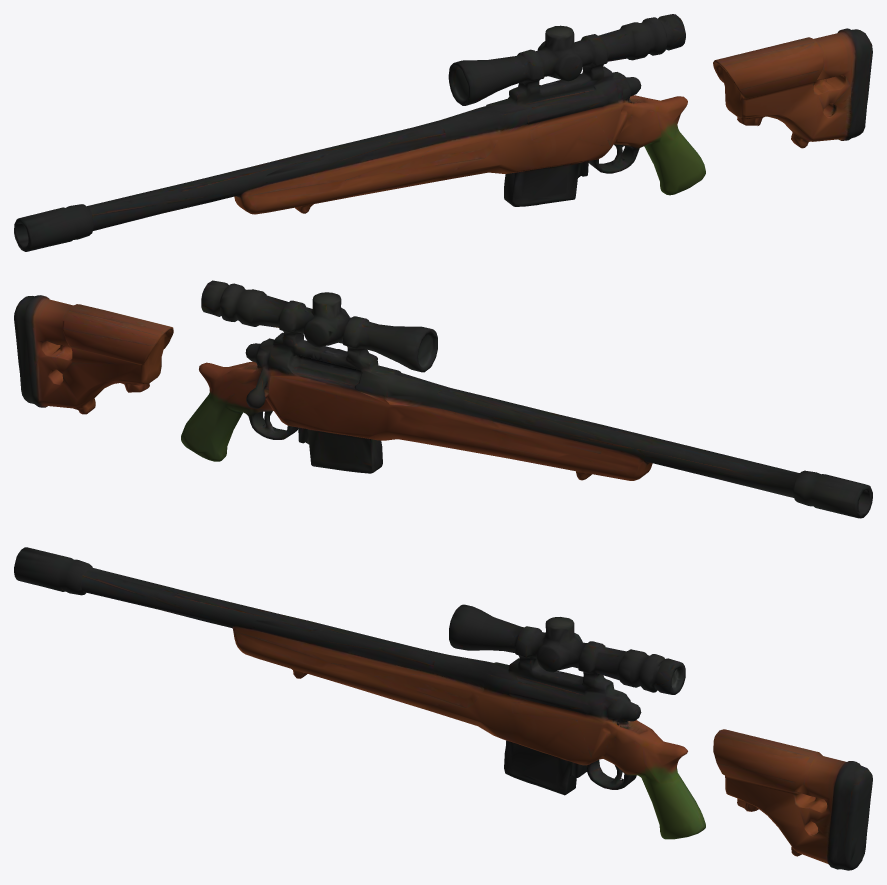
Rendered from wpn3p_sniper.glb.
3 views of the same model, one above another, from view 1: azimuth 30°, elevation 25°; view 2: azimuth 150°, elevation 25°; view 3: azimuth 330°, elevation 25° (orthographic).
Size of the model in its own units: 1.91 by 0.4076 by 0.1257.
1 material, 1 textured.
